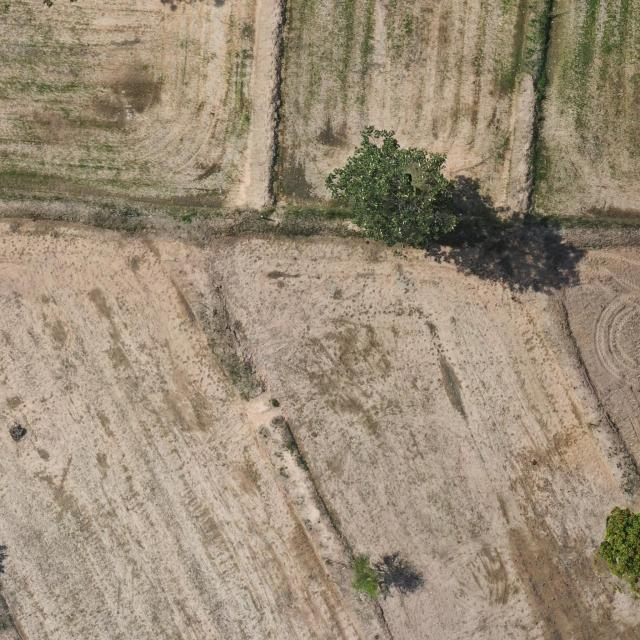Tree: (321, 124, 462, 242), (596, 505, 640, 593), (347, 553, 386, 601)
